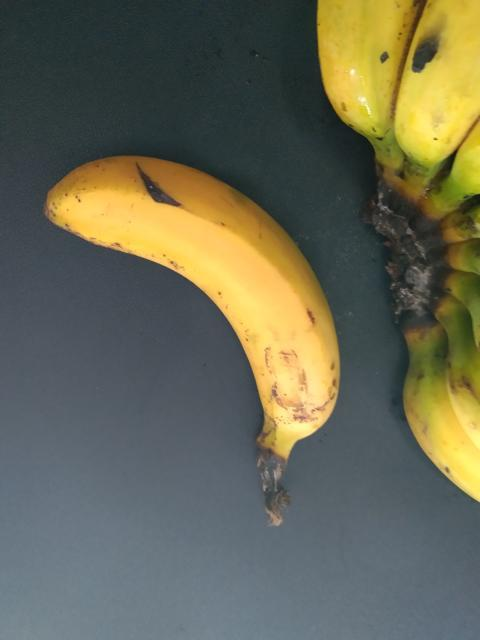ripe: (50, 134, 364, 488)
